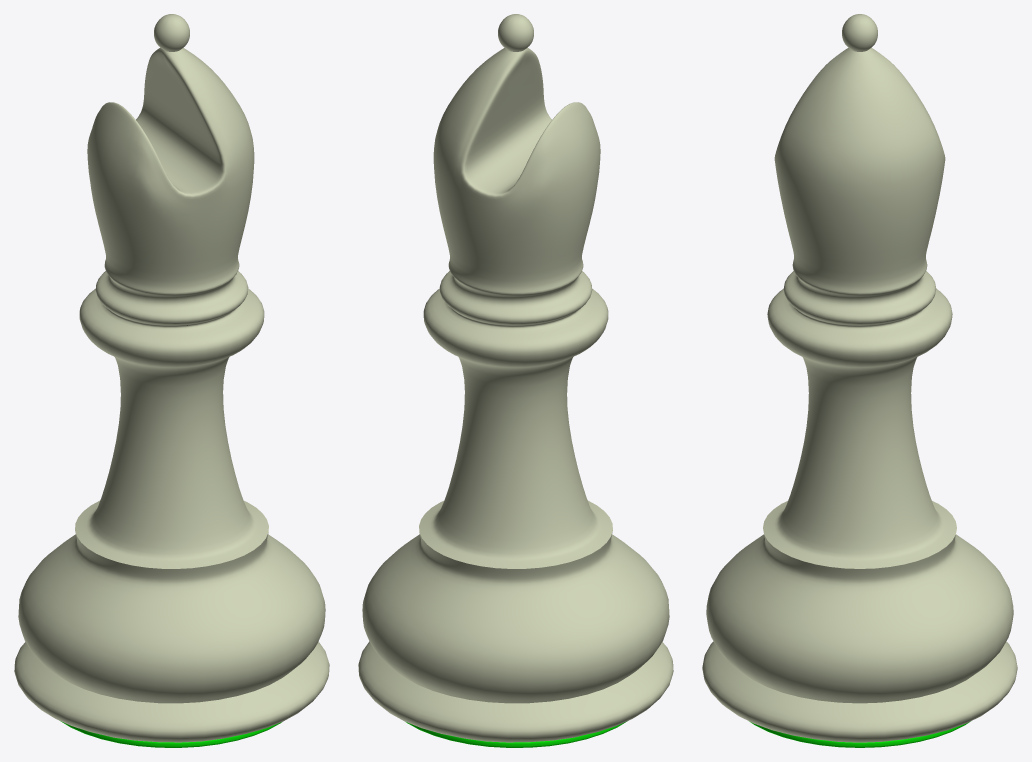
Rendered from Bishop.FBX.
3 renders of one model, left to right at view 1: azimuth 30°, elevation 25°; view 2: azimuth 150°, elevation 25°; view 3: azimuth 270°, elevation 25°, orthographic.
Visible parts, largest first — view 1: bishop_copy15; view 2: bishop_copy15; view 3: bishop_copy15.
Boxes of the visible parts, <box> form: bishop_copy15: <box>14,14,329,747</box>; bishop_copy15: <box>358,14,673,747</box>; bishop_copy15: <box>702,14,1017,747</box>.
Bounding box in the file's own units: 1.66 × 3.94 × 1.66.
